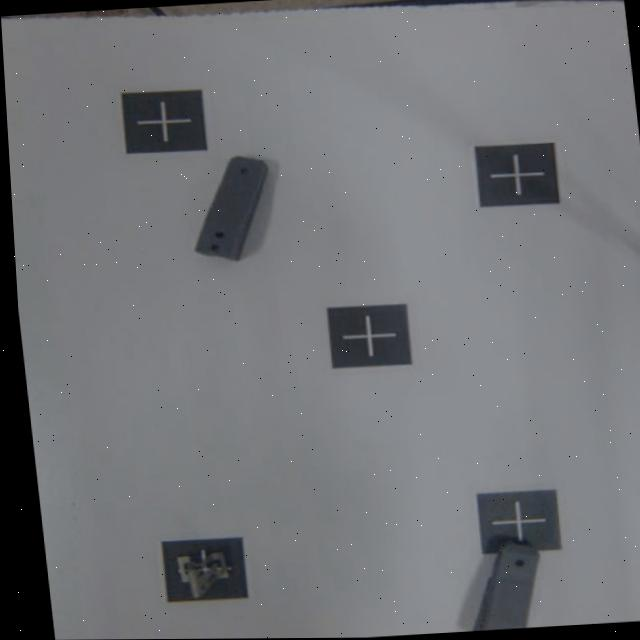pick4: (157, 537, 248, 602)
